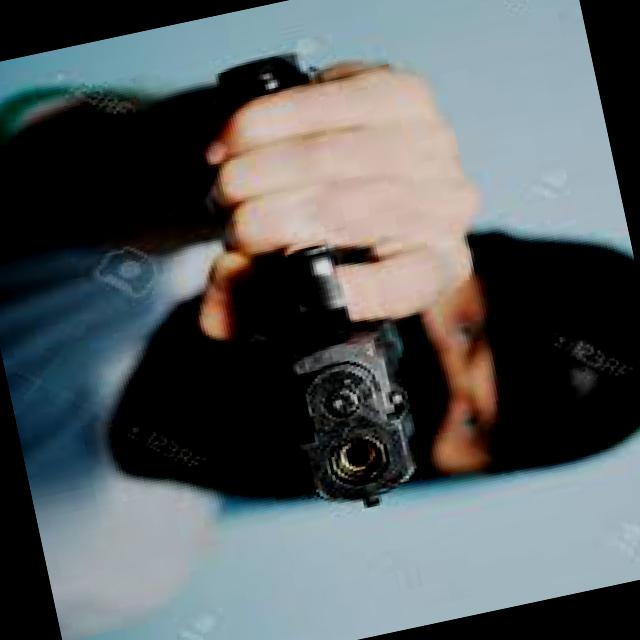handgun: (191, 45, 434, 527)
